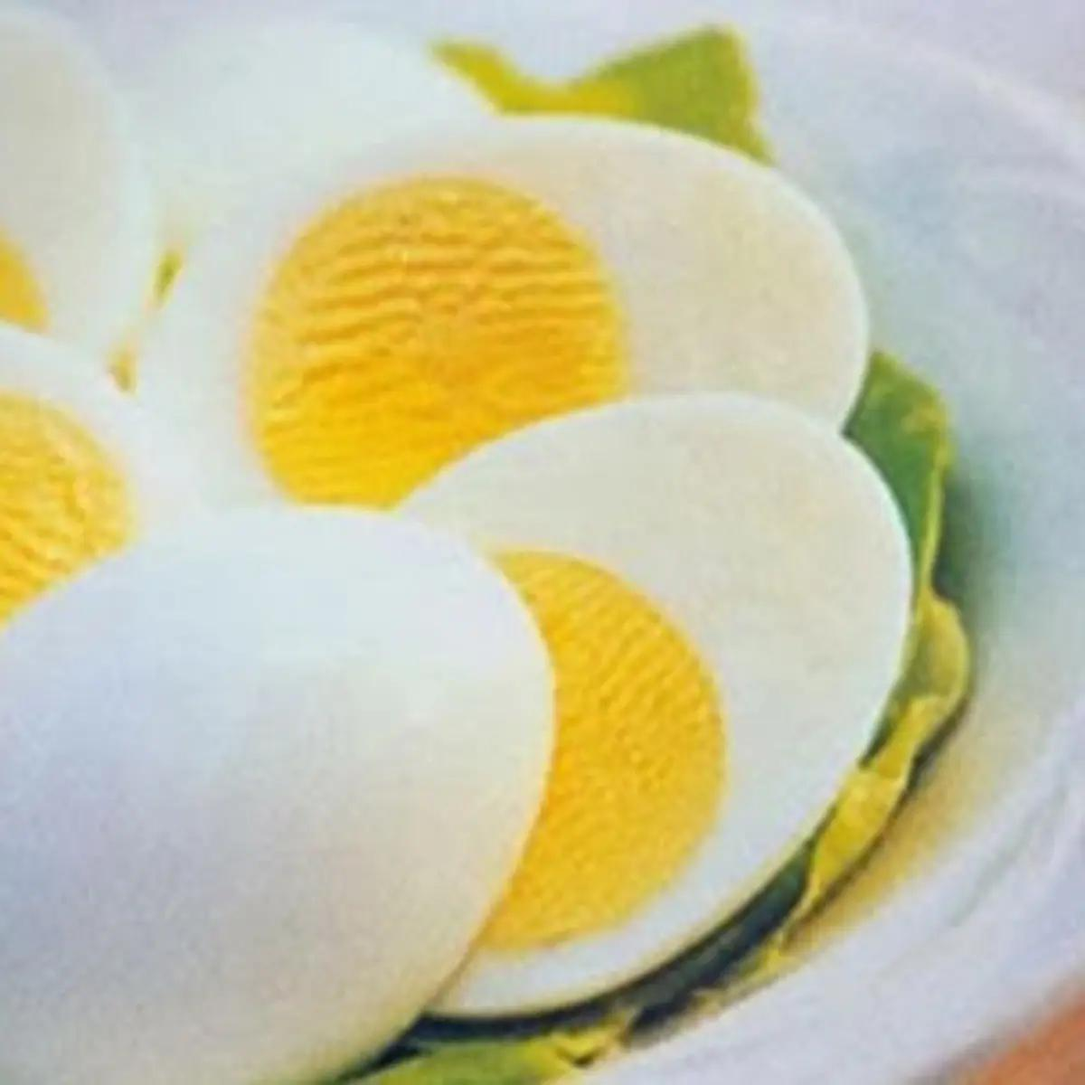telur: (15, 640, 400, 1028), (250, 197, 773, 400), (554, 477, 824, 827), (0, 356, 110, 548), (0, 85, 90, 278)
